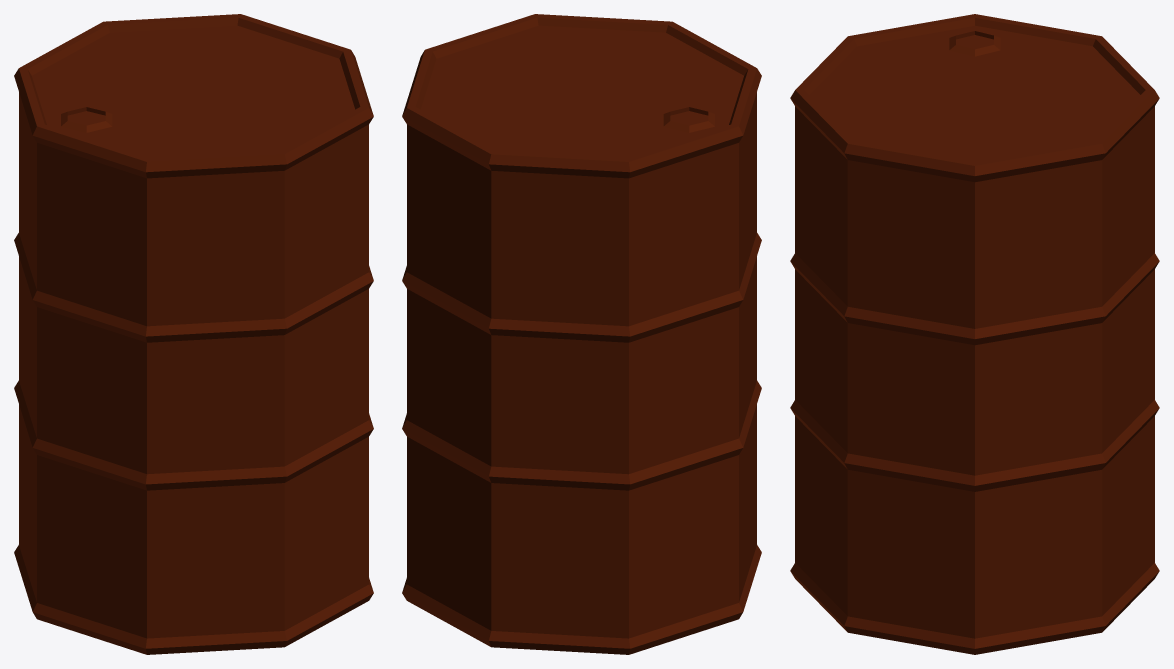
Rendered from DrumRusted.fbx.
3 views of the same model, side by side, from view 1: azimuth 30°, elevation 25°; view 2: azimuth 150°, elevation 25°; view 3: azimuth 270°, elevation 25° (orthographic).
Parts seen in each view (by area): view 1: Cylinder; view 2: Cylinder; view 3: Cylinder.
Boxes of the visible parts, bbox=[...] form: Cylinder: bbox=[14, 14, 373, 654]; Cylinder: bbox=[402, 14, 761, 654]; Cylinder: bbox=[790, 14, 1159, 654].
Bounding box in the file's own units: 0.822 × 1.2 × 0.822.
